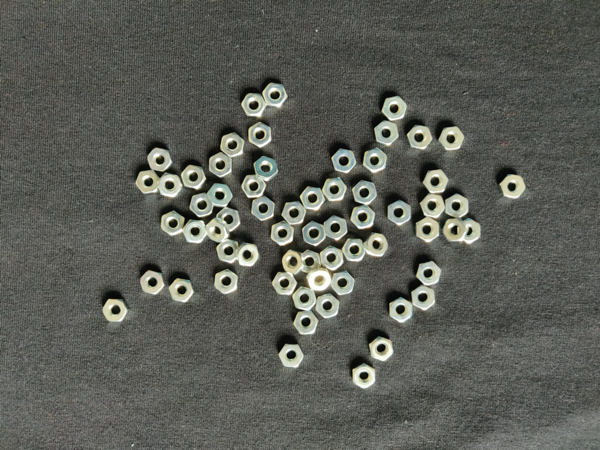nut: (499, 175, 526, 200), (438, 126, 465, 151), (415, 216, 440, 243), (423, 169, 449, 194), (407, 125, 433, 150), (382, 96, 408, 121), (374, 121, 399, 147), (363, 148, 388, 174), (306, 267, 332, 292), (241, 93, 267, 118), (157, 173, 183, 198), (214, 269, 238, 296), (417, 261, 442, 286), (421, 194, 446, 219), (351, 205, 376, 230), (332, 149, 357, 174), (330, 271, 355, 296), (282, 201, 307, 226), (282, 250, 307, 275), (263, 83, 288, 108), (206, 218, 231, 243), (161, 211, 186, 236), (170, 278, 195, 303), (140, 271, 165, 296), (412, 285, 436, 311), (388, 200, 412, 226), (370, 336, 394, 362), (352, 181, 378, 205), (322, 178, 348, 202), (324, 215, 348, 241), (316, 293, 340, 319), (300, 187, 326, 211), (254, 156, 278, 182), (221, 132, 245, 158), (181, 165, 207, 189), (148, 148, 174, 172), (443, 219, 470, 242), (207, 184, 234, 207), (445, 194, 469, 219), (364, 233, 389, 257), (294, 311, 319, 335), (279, 344, 304, 368), (271, 221, 295, 246), (209, 153, 233, 178), (249, 122, 272, 148), (103, 300, 129, 323), (293, 287, 317, 311), (236, 243, 260, 267), (217, 208, 241, 232), (136, 170, 160, 194), (390, 298, 413, 323), (353, 364, 376, 389), (342, 239, 367, 262), (321, 246, 344, 271), (303, 222, 326, 247), (273, 273, 298, 296), (252, 196, 275, 221), (242, 175, 267, 198), (190, 193, 213, 218), (183, 220, 208, 243), (217, 238, 239, 264), (464, 219, 482, 245), (302, 250, 321, 274)
